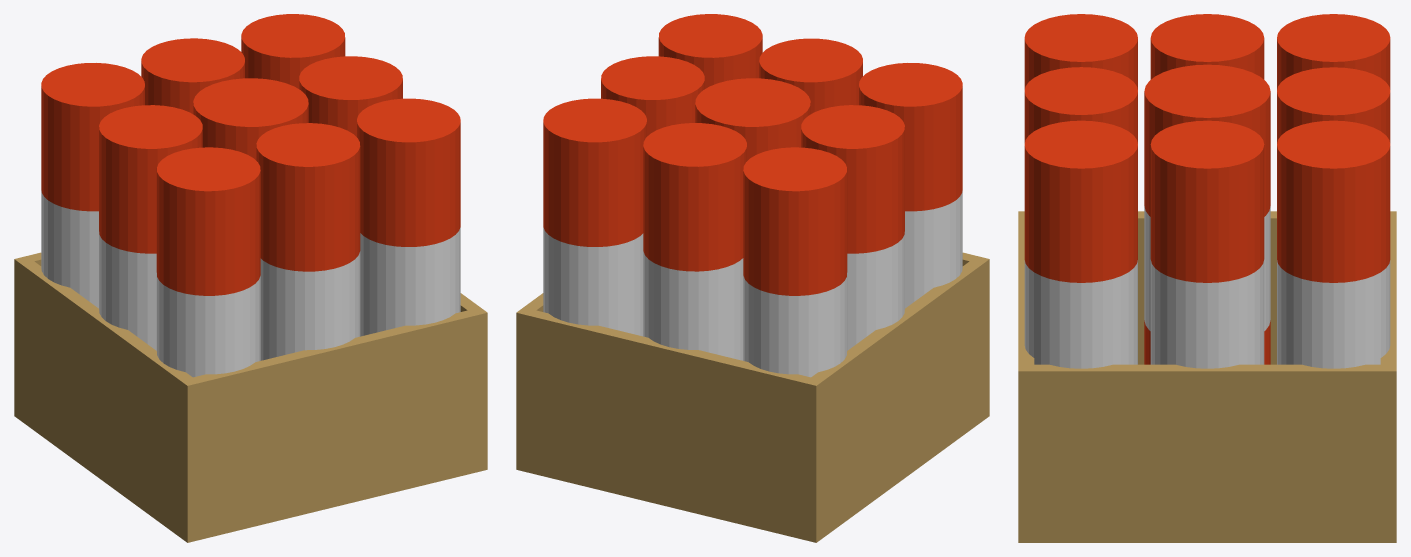
The model's file is TNT.fbx.
3 renders of one model, left to right at view 1: azimuth 30°, elevation 25°; view 2: azimuth 150°, elevation 25°; view 3: azimuth 270°, elevation 25°, orthographic. The views are drawn at different scales.
Visible parts, largest first — view 1: Cube, Cylinder.008, Cylinder.006, Cylinder.007, Cylinder.003, Cylinder.002, Cylinder.004, Cylinder, Cylinder.005, Cylinder.001; view 2: Cube, Cylinder.002, Cylinder, Cylinder.001, Cylinder.003, Cylinder.008, Cylinder.004, Cylinder.006, Cylinder.005, Cylinder.007; view 3: Cube, Cylinder.005, Cylinder, Cylinder.006, Cylinder.004, Cylinder.007, Cylinder.001, Cylinder.002, Cylinder.008, Cylinder.003.
Part boxes in pixels (x1,y1,x2,y2): Cube: (14, 252, 487, 542); Cylinder.008: (156, 147, 260, 377); Cylinder.006: (357, 98, 460, 336); Cylinder.007: (256, 123, 360, 360); Cylinder.003: (99, 105, 202, 350); Cylinder.002: (41, 63, 144, 308); Cylinder.004: (193, 78, 308, 160); Cylinder: (241, 14, 345, 88); Cylinder.005: (299, 56, 402, 136); Cylinder.001: (141, 38, 244, 113); Cube: (516, 252, 989, 542); Cylinder.002: (743, 147, 847, 377); Cylinder: (543, 98, 646, 336); Cylinder.001: (643, 123, 746, 360); Cylinder.003: (801, 105, 904, 350); Cylinder.008: (859, 63, 962, 308); Cylinder.004: (695, 78, 810, 160); Cylinder.006: (658, 14, 762, 88); Cylinder.005: (601, 56, 704, 136); Cylinder.007: (759, 38, 862, 113); Cube: (1018, 211, 1396, 542); Cylinder.005: (1150, 120, 1264, 368); Cylinder: (1277, 120, 1390, 368); Cylinder.006: (1024, 120, 1137, 368); Cylinder.004: (1144, 64, 1270, 364); Cylinder.007: (1024, 67, 1137, 143); Cylinder.001: (1277, 67, 1390, 143); Cylinder.002: (1277, 14, 1390, 89); Cylinder.008: (1024, 14, 1137, 89); Cylinder.003: (1150, 14, 1264, 79).
Bounding box in the file's own units: 600 × 650 × 600.
